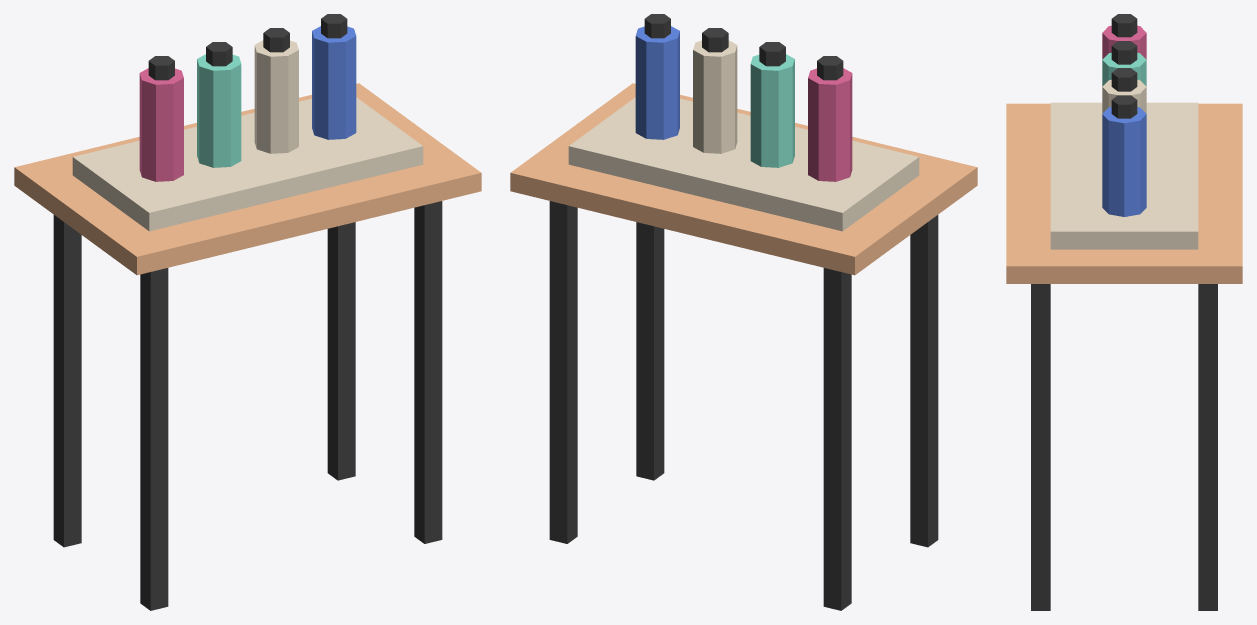
The picture shows the model from 3 angles, left to right: view 1: azimuth 30°, elevation 25°; view 2: azimuth 150°, elevation 25°; view 3: azimuth 270°, elevation 25°; orthographic projection. The views are drawn at different scales.
Visible parts, largest first — view 1: Display tabletop, Vanity tray, Display support leg.002, Display support leg, Display support leg.001, Display support leg.003, Bottle, Bottle.002, Bottle.003, Bottle.001; view 2: Display tabletop, Vanity tray, Display support leg.003, Display support leg.001, Display support leg, Display support leg.002, Bottle, Bottle.002, Bottle.003, Bottle.001; view 3: Display tabletop, Vanity tray, Display support leg.002, Display support leg.003, Bottle.003, Bottle.002, Bottle, Bottle.001, Bottle cap.002, Bottle cap.003, Bottle cap, Bottle cap.001.
Boxes of the visible parts, x1,y1,x2,y2 form: Display tabletop: (14,83,481,275); Vanity tray: (72,97,423,231); Display support leg.002: (414,201,442,543); Display support leg: (140,268,168,610); Display support leg.001: (53,215,81,547); Display support leg.003: (327,222,355,480); Bottle: (139,68,183,181); Bottle.002: (254,40,298,153); Bottle.003: (312,26,356,139); Bottle.001: (197,54,241,167); Display tabletop: (510,83,977,275); Vanity tray: (568,97,919,231); Display support leg.003: (549,201,577,543); Display support leg.001: (823,268,851,610); Display support leg: (910,215,938,547); Display support leg.002: (636,222,664,480); Bottle: (808,68,852,181); Bottle.002: (693,40,737,153); Bottle.003: (635,26,679,139); Bottle.001: (750,54,794,167); Display tabletop: (1006,103,1242,283); Vanity tray: (1050,102,1198,249); Display support leg.002: (1031,284,1050,610); Display support leg.003: (1198,284,1217,610); Bottle.003: (1102,107,1146,216); Bottle.002: (1102,80,1146,113); Bottle: (1102,25,1146,59); Bottle.001: (1102,52,1146,86); Bottle cap.002: (1111,68,1137,91); Bottle cap.003: (1111,95,1137,118); Bottle cap: (1111,14,1137,37); Bottle cap.001: (1111,41,1137,64).
Size of the model in its own units: 0.78 by 1.08 by 0.48.
1 material, 1 textured.
